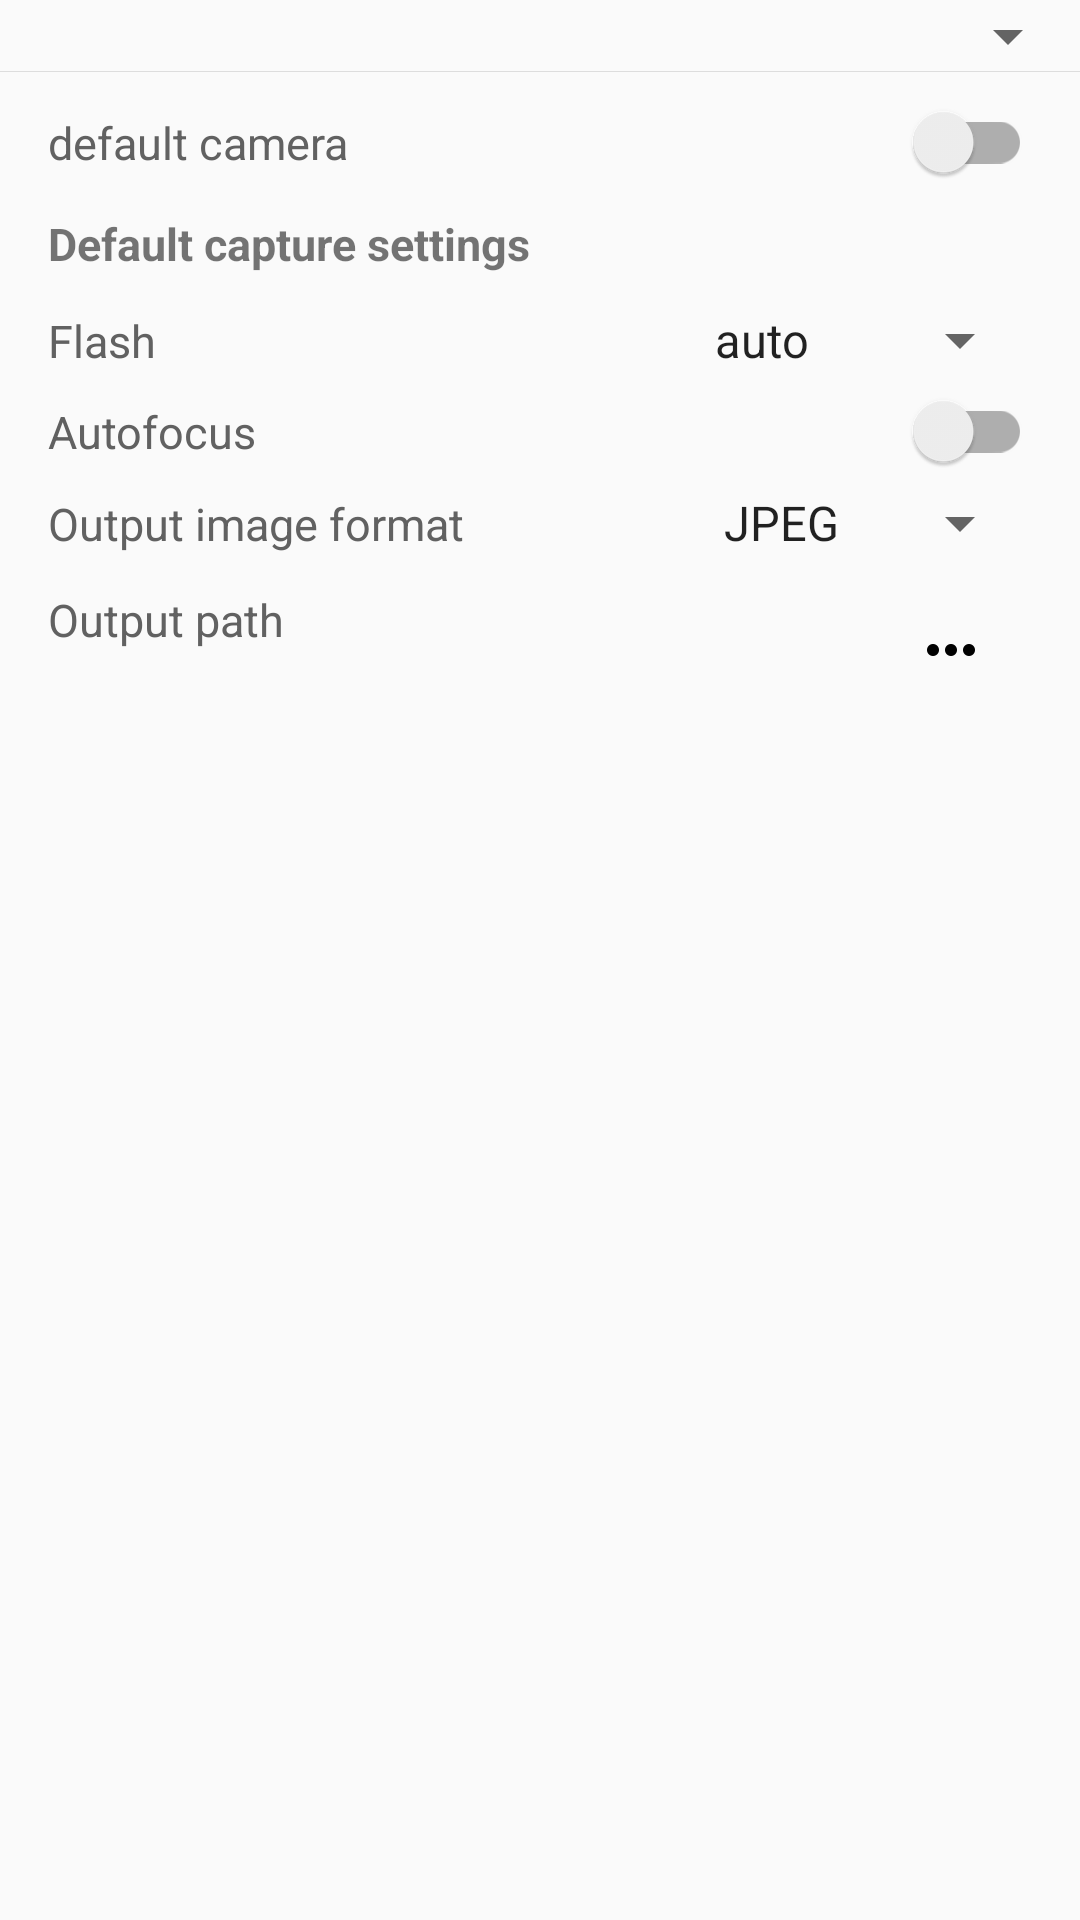

Icon click points for this 1080px×1920px phone screenshot, format point (x, y):
choose: point (951, 650)
